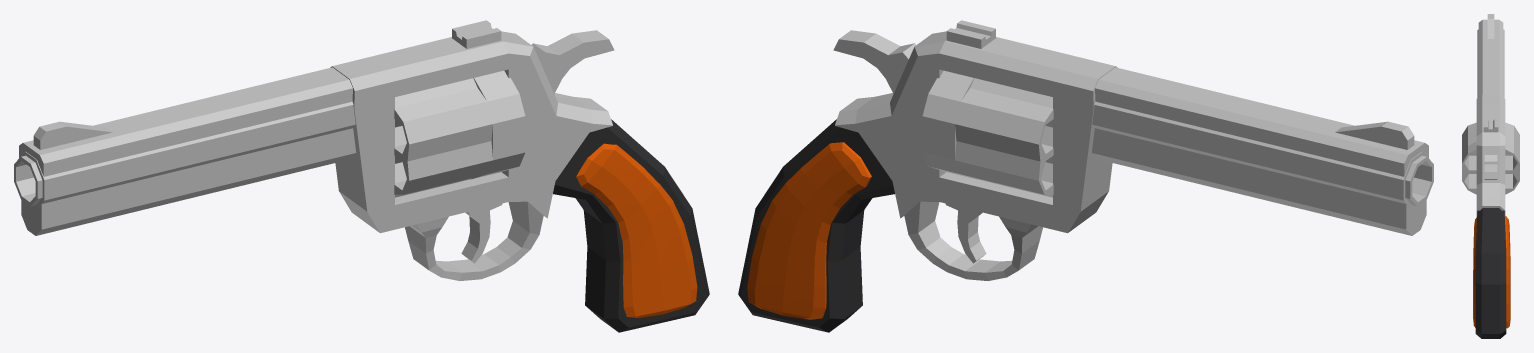
Rendered from Revolver_2.fbx.
The picture shows the model from 3 angles, left to right: view 1: azimuth 30°, elevation 25°; view 2: azimuth 150°, elevation 25°; view 3: azimuth 270°, elevation 25°; orthographic projection. The views are drawn at different scales.
Visible parts, largest first — view 1: Revolver_2; view 2: Revolver_2; view 3: Revolver_2.
Boxes of the visible parts, x1,y1,x2,y2 form: Revolver_2: (14, 20, 709, 332); Revolver_2: (738, 20, 1433, 332); Revolver_2: (1462, 14, 1519, 338).
Bounding box in the file's own units: 27.25 × 12.98 × 4.05.
